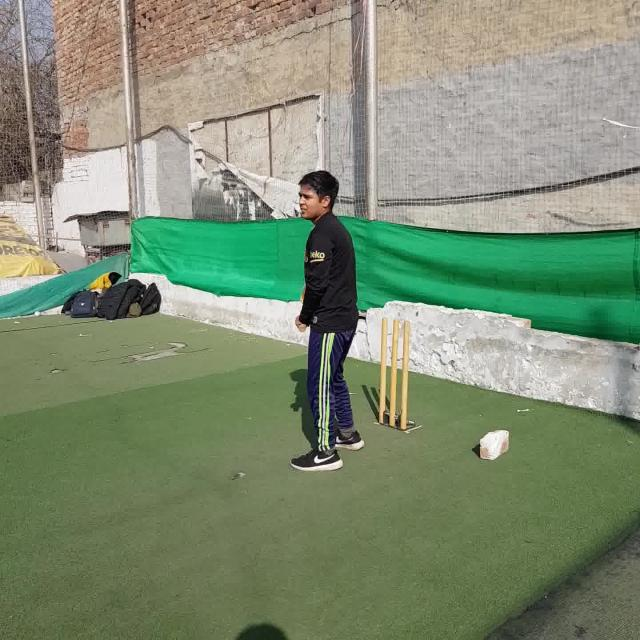ball: (35, 310, 41, 316)
